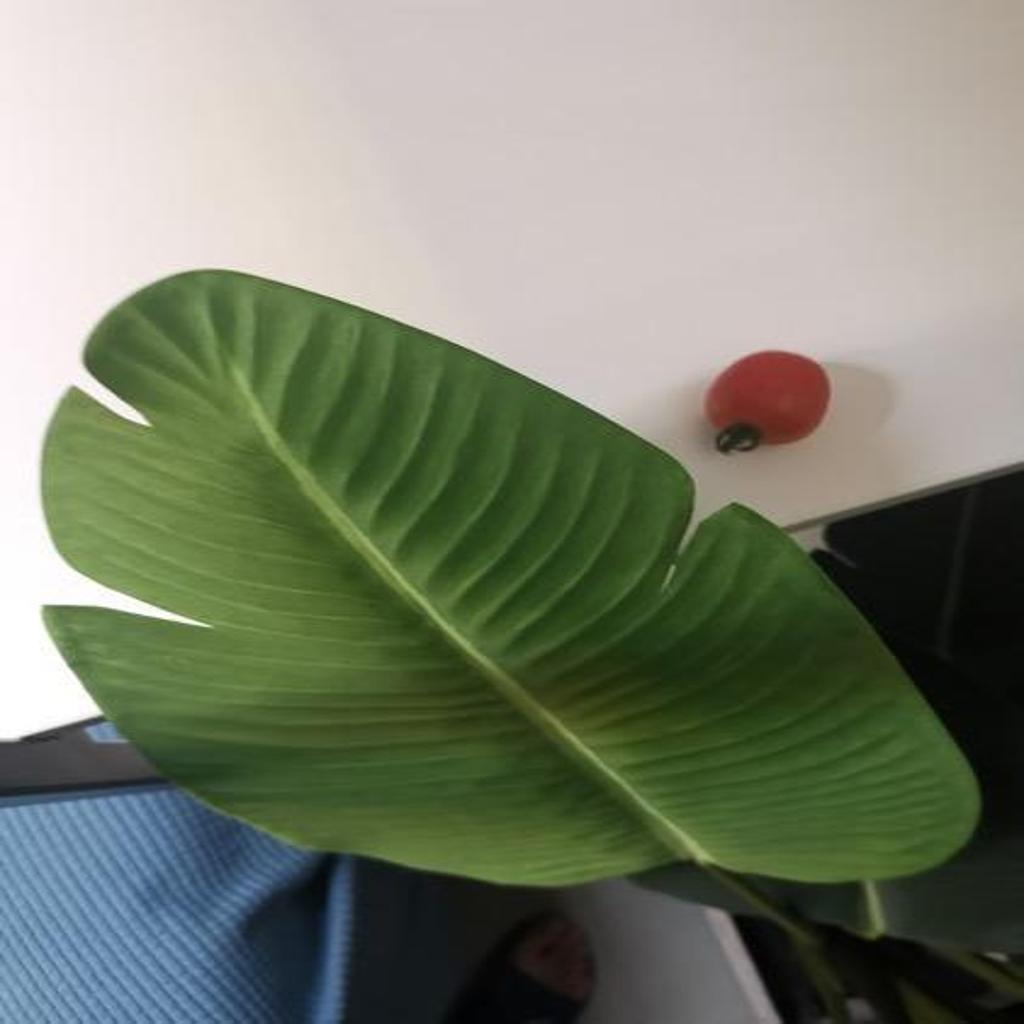tomato: (710, 343, 837, 457)
